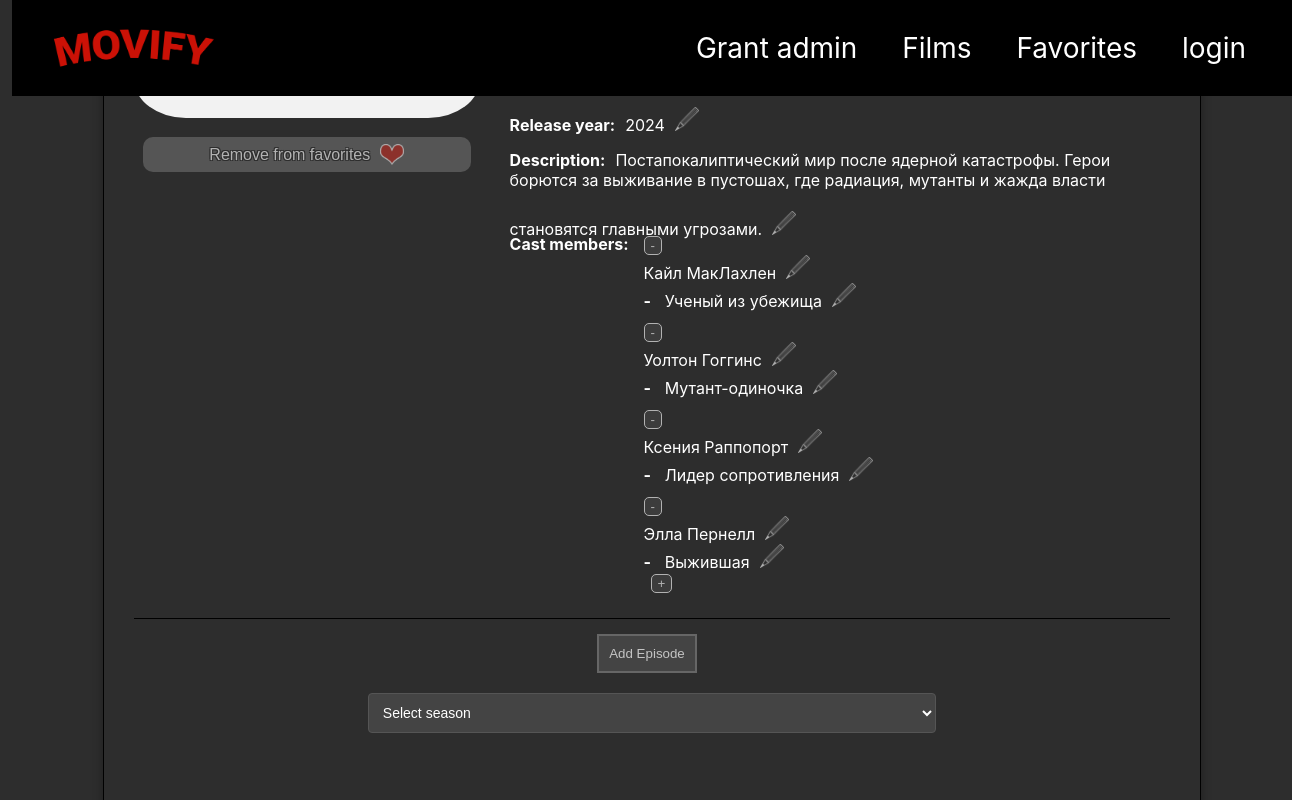
Scenario: FilmDetail › displays correct message for ADMIN and IN_PROGRESS
(page scrolled)
Select "Season 1" in the dropdown at (652, 713), box [368, 693, 936, 733]
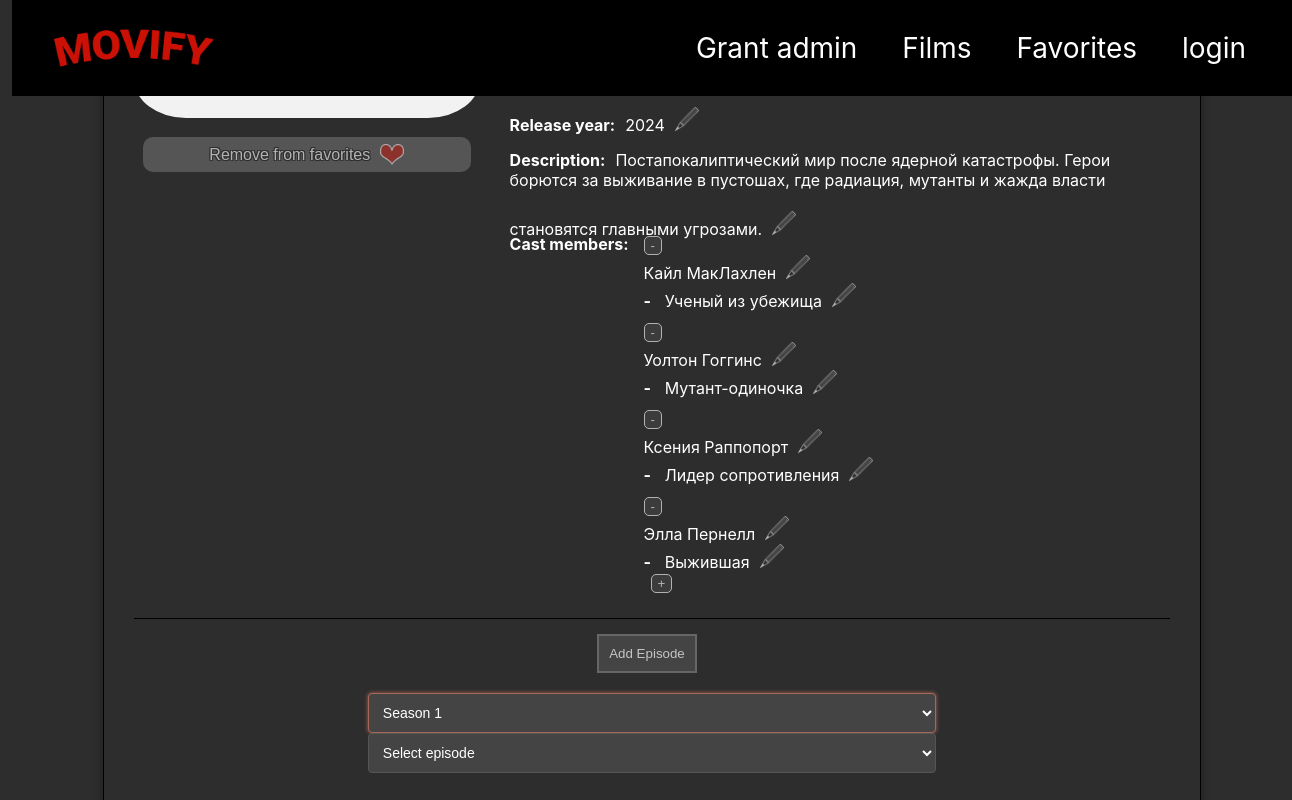
Select "1. Test Episode" in the 2nd dropdown at (652, 753), box [368, 733, 936, 773]
(page scrolled)
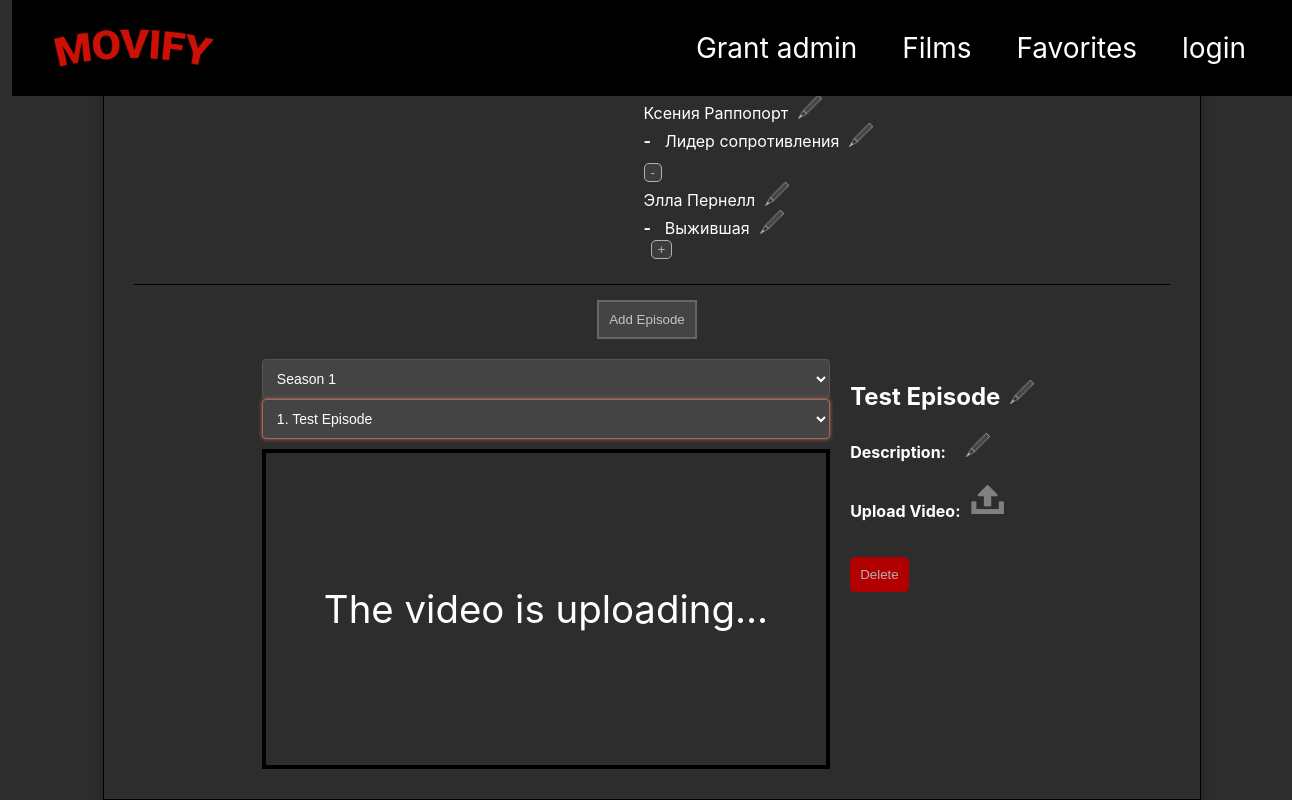
Result: the text "The video is uploading..." is shown at [262, 449, 830, 769]
